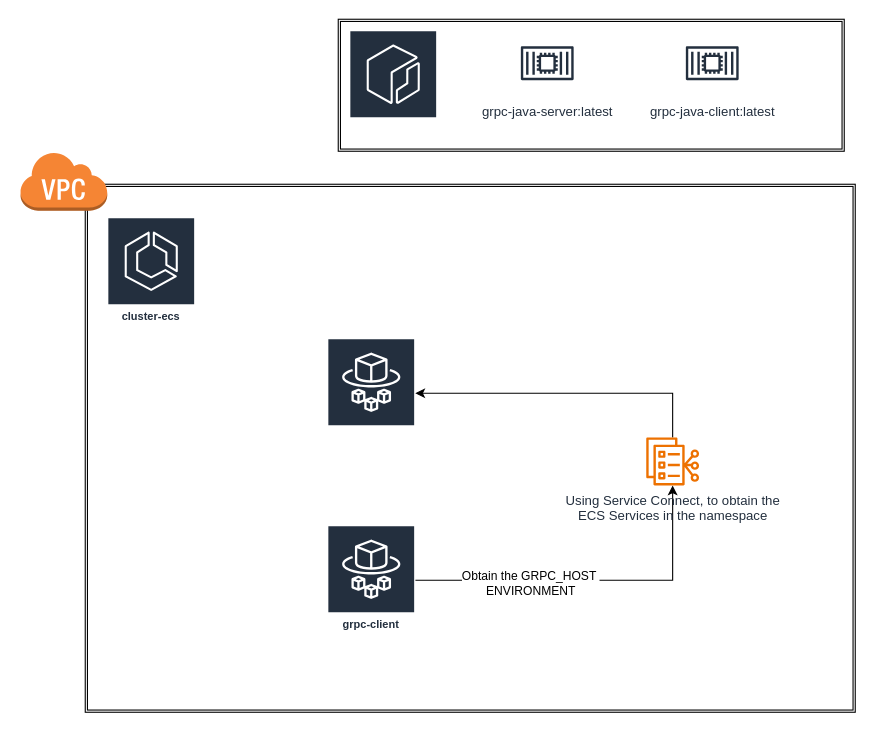
Image size: 875x732. Some labels were removed from this diagram. The shapes that lost their labels are listed below. From the top down, each one's centre as x and y in pixels, then its label:
At (x=392, y=84): "Amazon ECR".
At (x=370, y=392): "grpc-server".
